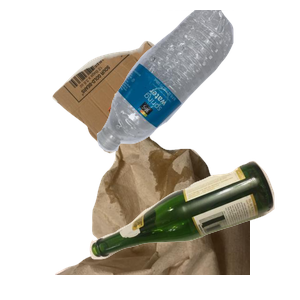cardboard: (50, 38, 233, 184)
glass: (87, 158, 300, 300)
plastic: (94, 10, 300, 154)
trash: (52, 120, 292, 300)
